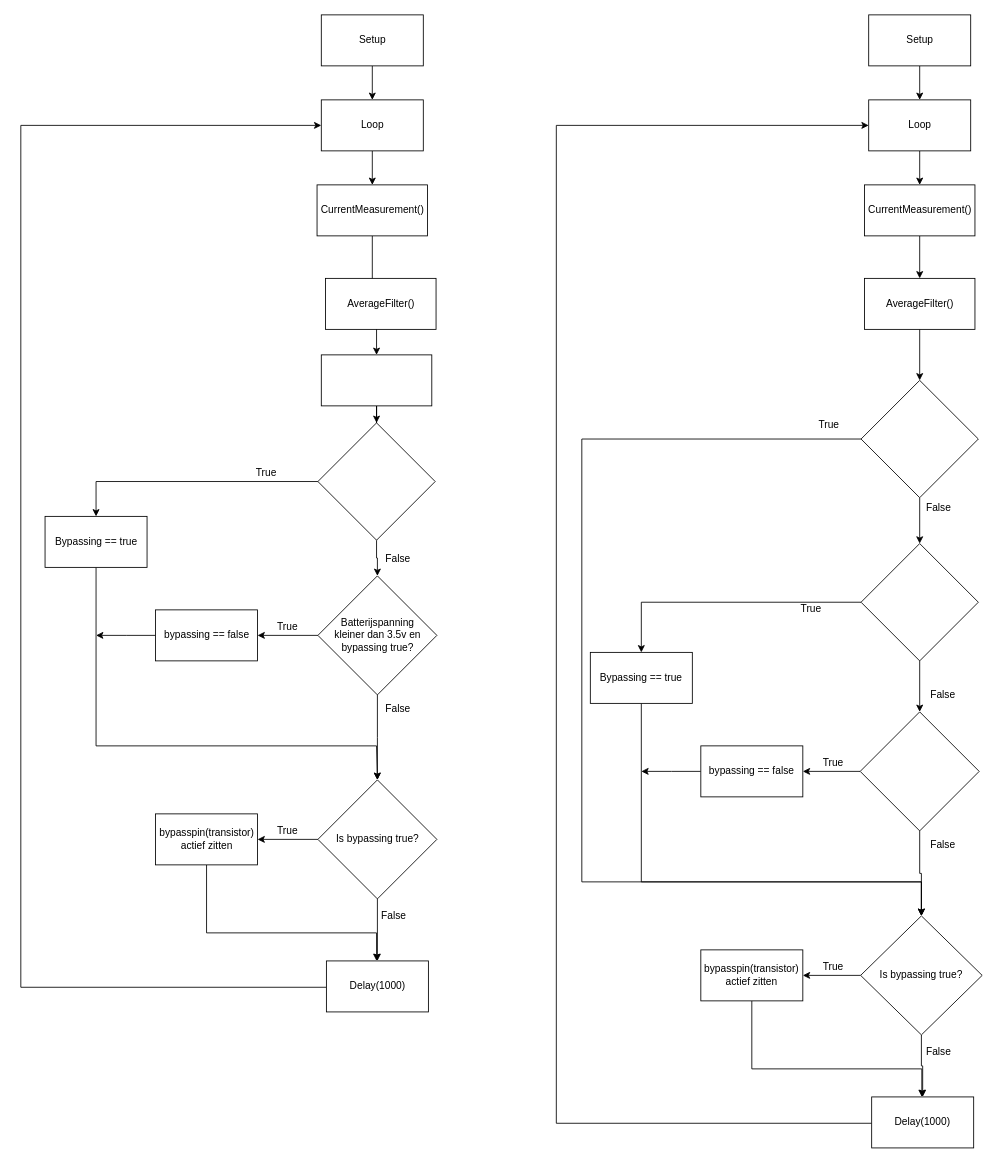
This 997x1163 diagram has some shape labels left out. The centre of each missing label's shape, as x and y in pixels:
"Batterijspanning berekenen" belongs at pixel 376 380.
"Batterijspanning groter dan 3.7v?" belongs at pixel 376 481.
"Is de stroomsterkte groter als 0.4A?" belongs at pixel 919 771.
"Is de stroomsterkte kleiner dan 0,1A?" belongs at pixel 919 602.
"IsCharching == true" belongs at pixel 919 439.
